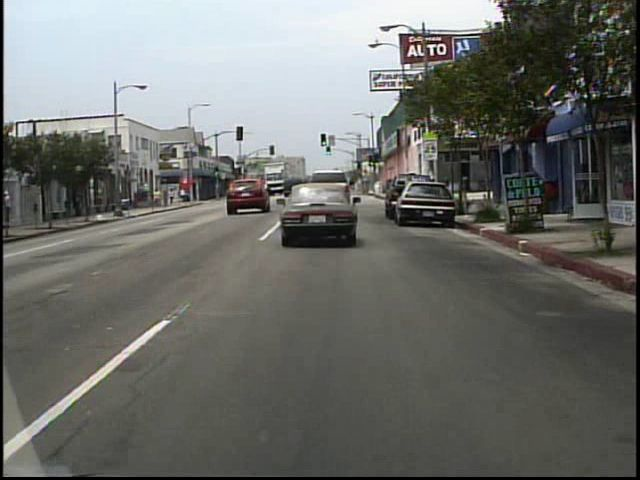person: (7, 188, 17, 226), (155, 187, 163, 208), (169, 187, 176, 205), (164, 188, 169, 207)
